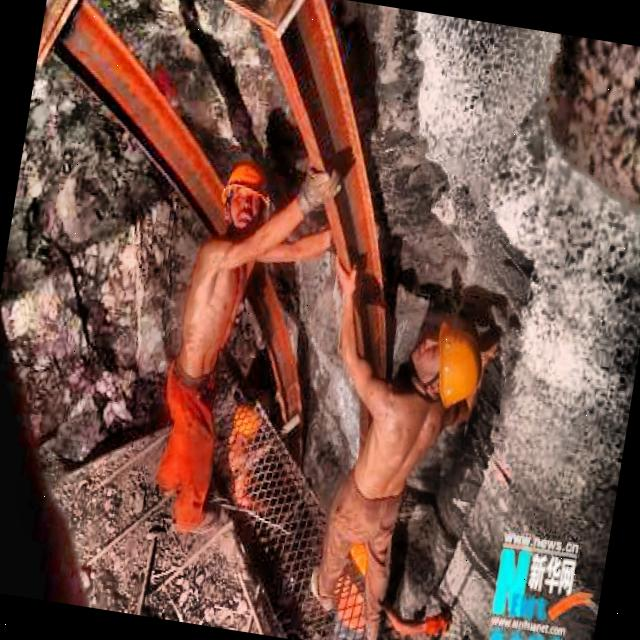helmet: (400, 316, 488, 412), (218, 160, 273, 233)
